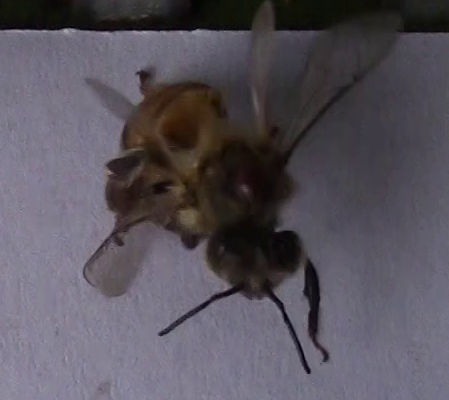Varroa destructor: (231, 166, 270, 202)
